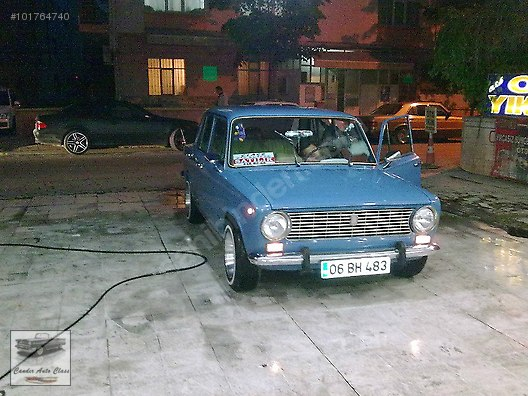murat: (180, 93, 442, 293)
